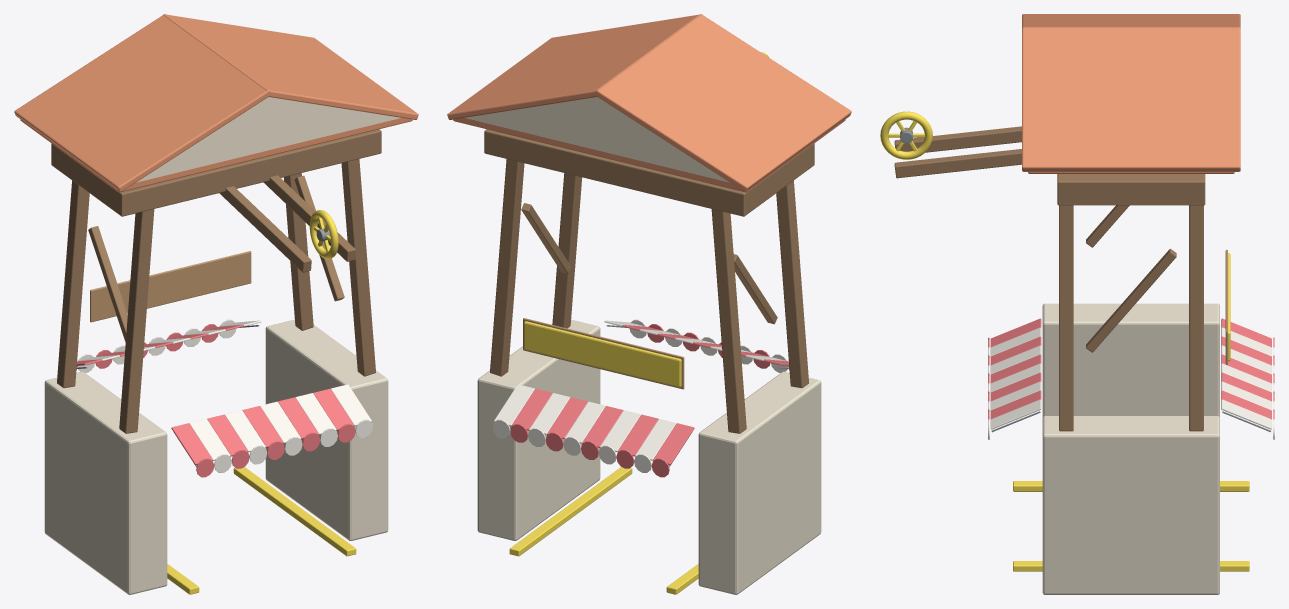
The model's file is zip_station.fbx.
3 views of the same model, side by side, from view 1: azimuth 30°, elevation 25°; view 2: azimuth 150°, elevation 25°; view 3: azimuth 270°, elevation 25° (orthographic). The views are drawn at different scales.
Parts seen in each view (by area): view 1: Visual, Spin_X; view 2: Visual; view 3: Visual, Spin_X.
Boxes of the visible parts, <box> form: Visual: <box>14,14,418,594</box>; Spin_X: <box>309,210,338,259</box>; Visual: <box>447,14,851,594</box>; Visual: <box>894,14,1274,594</box>; Spin_X: <box>880,111,932,159</box>.
Size of what is drawn, in the model's own units: 1224 by 1873 by 1334.
